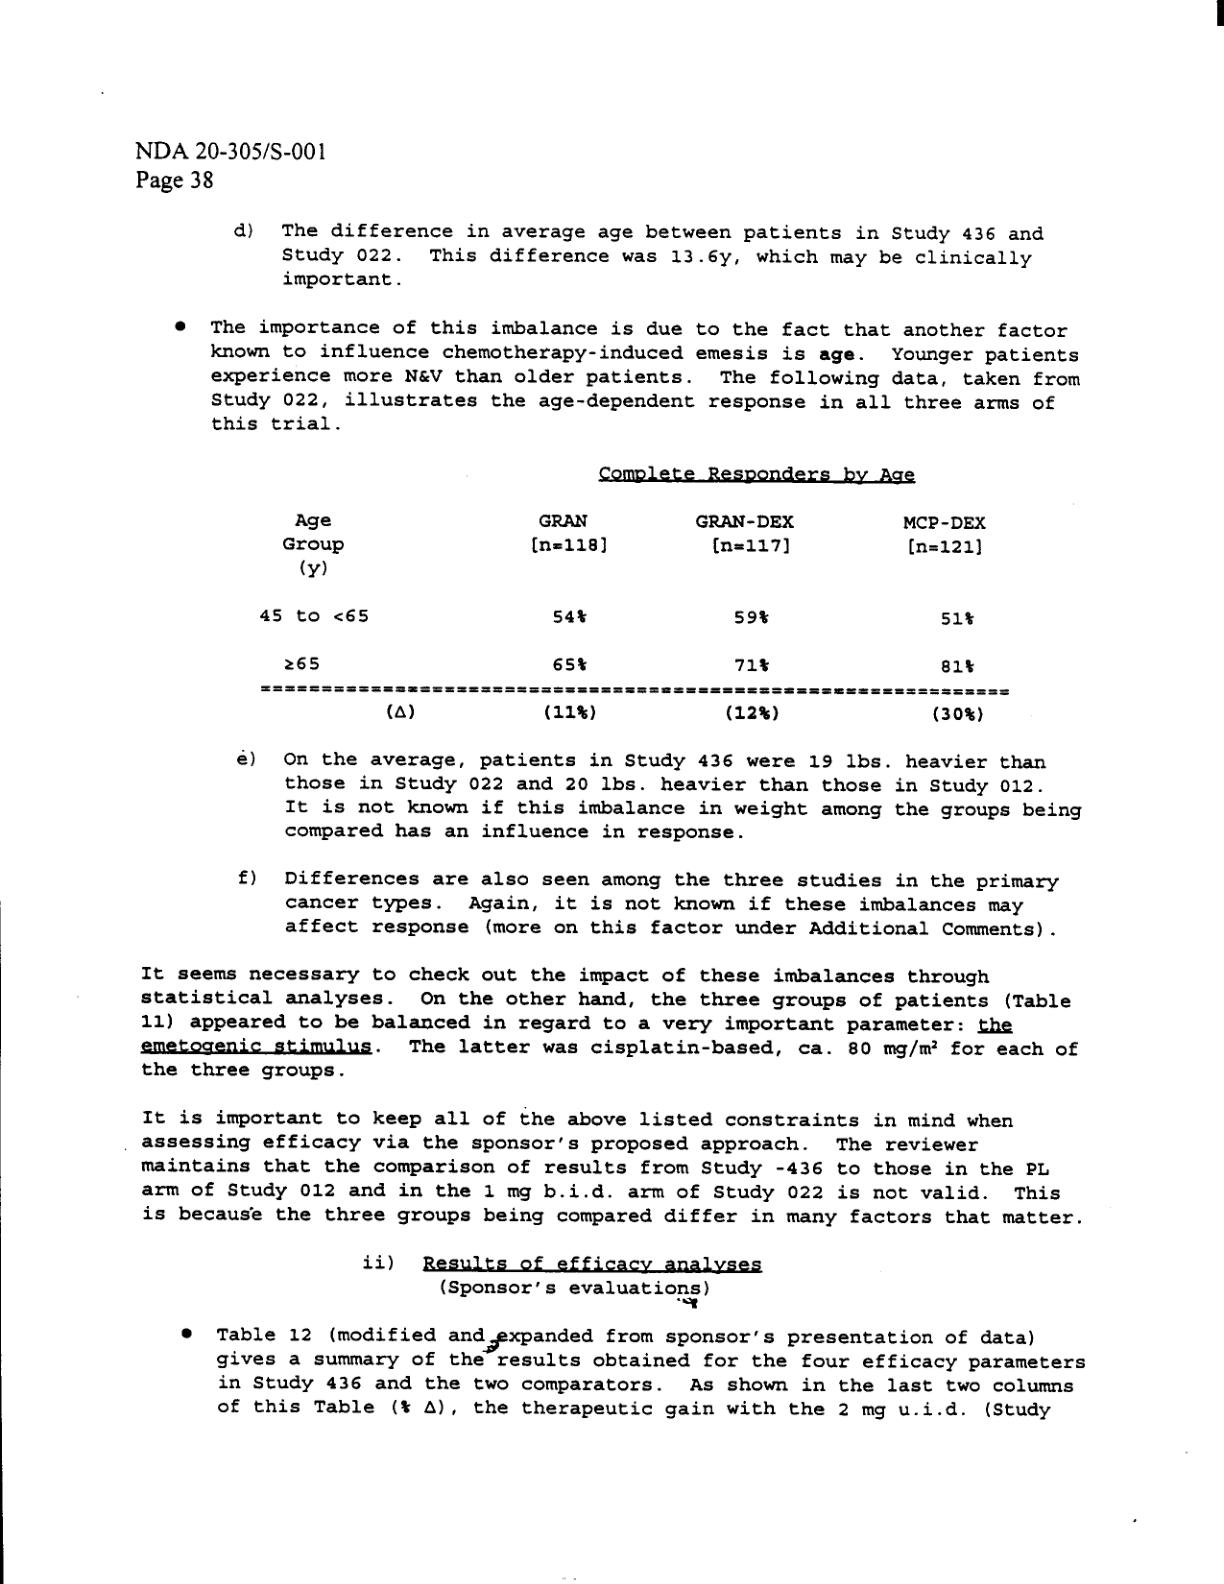nolines: (257, 510, 1011, 724)
